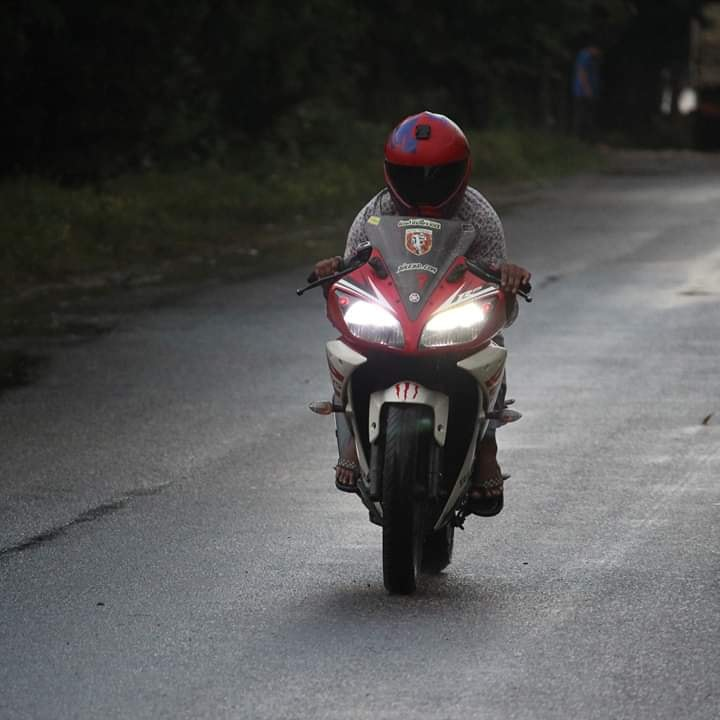bike: (296, 219, 532, 597)
